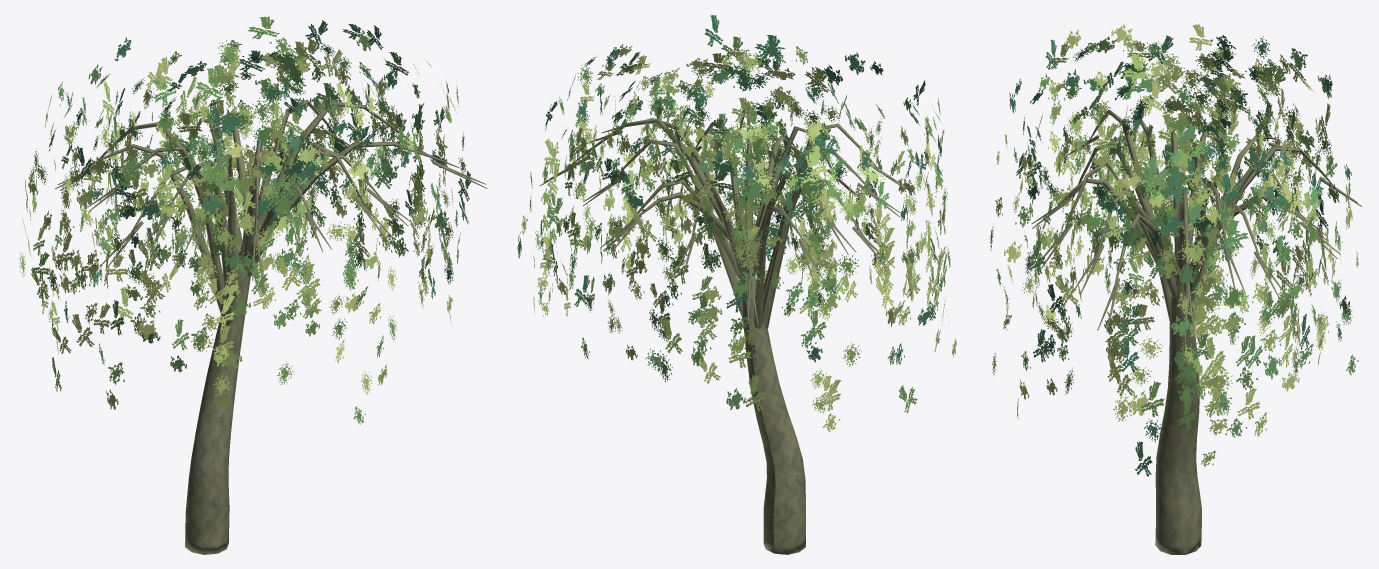
Rendered from Tree_Willow_03_Leaning_Bank_LOD1.glb.
3 views of the same model, side by side, from view 1: azimuth 30°, elevation 25°; view 2: azimuth 150°, elevation 25°; view 3: azimuth 270°, elevation 25° (orthographic). The views are drawn at different scales.
Parts seen in each view (by area): view 1: Tree_Willow_03_Leaning_Bank_LOD1; view 2: Tree_Willow_03_Leaning_Bank_LOD1; view 3: Tree_Willow_03_Leaning_Bank_LOD1.
Part boxes in pixels (x1,y1,x2,y2): Tree_Willow_03_Leaning_Bank_LOD1: (18, 16, 487, 554); Tree_Willow_03_Leaning_Bank_LOD1: (517, 15, 956, 554); Tree_Willow_03_Leaning_Bank_LOD1: (989, 23, 1361, 554).
Bounding box in the file's own units: 7.89 × 8.63 × 6.06.
2 materials, 2 textured.
